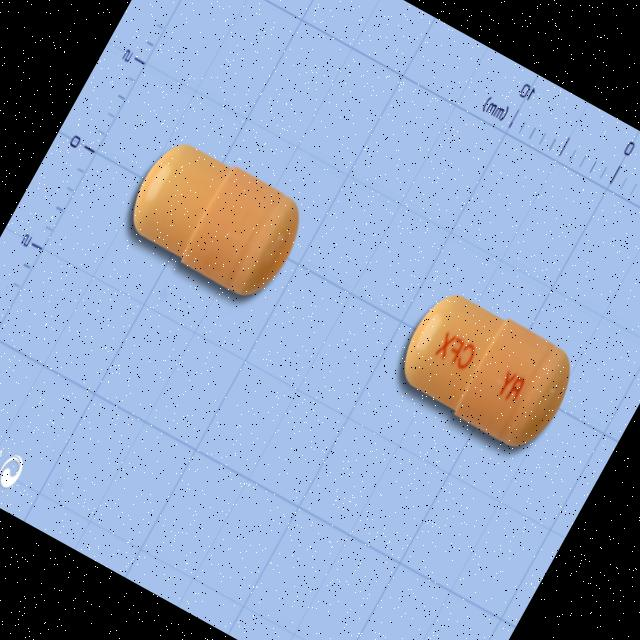Cefixime Cap- Reyon: (379, 270, 592, 466), (109, 120, 320, 314)
